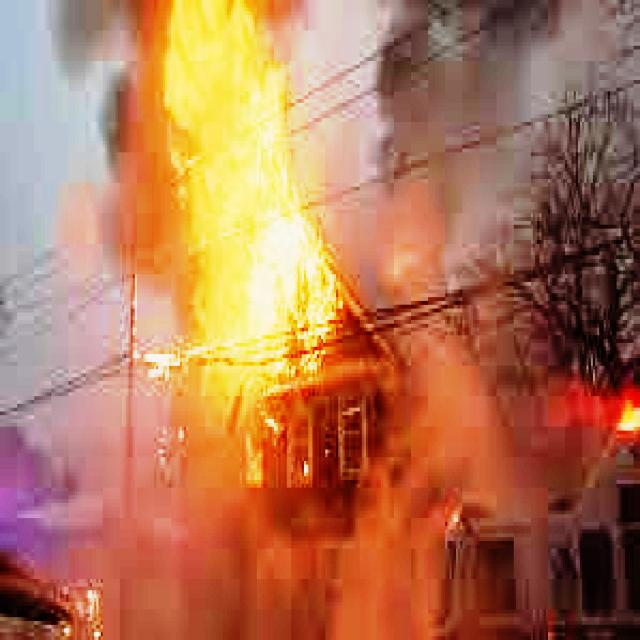api: (155, 24, 344, 428)
